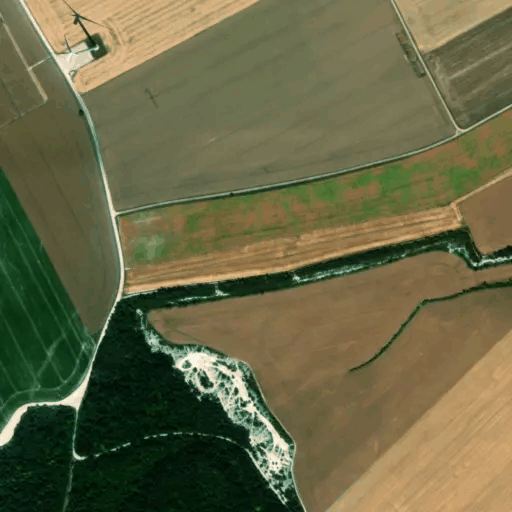wt: (42, 1, 112, 66)
